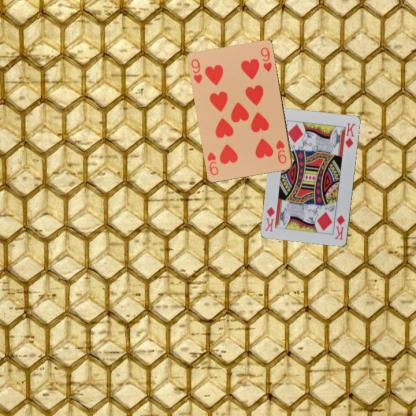9h: (188, 57, 204, 85), (273, 138, 288, 164)
Kd: (332, 213, 346, 241)
